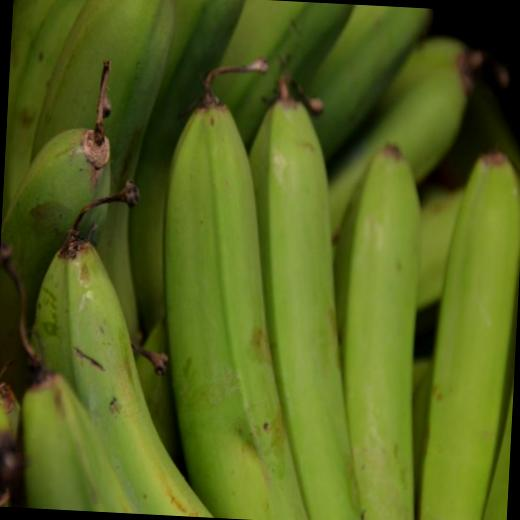Banana: (0, 0, 520, 520), (324, 118, 450, 520)
